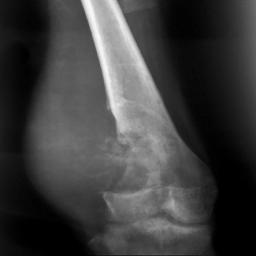cancer: (86, 117, 181, 192)
